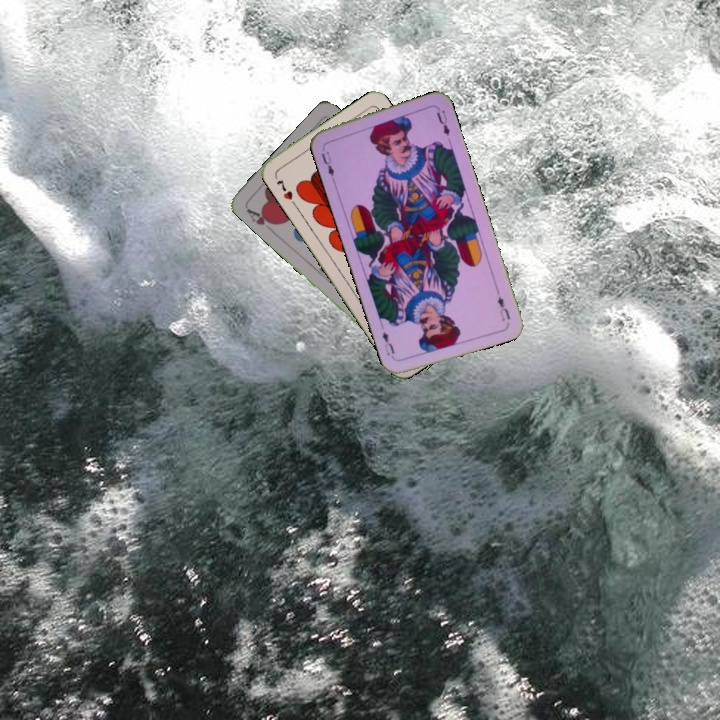EU: (317, 143, 337, 179), (493, 292, 513, 324)
H7: (272, 174, 295, 203)
HA: (242, 203, 280, 235)
